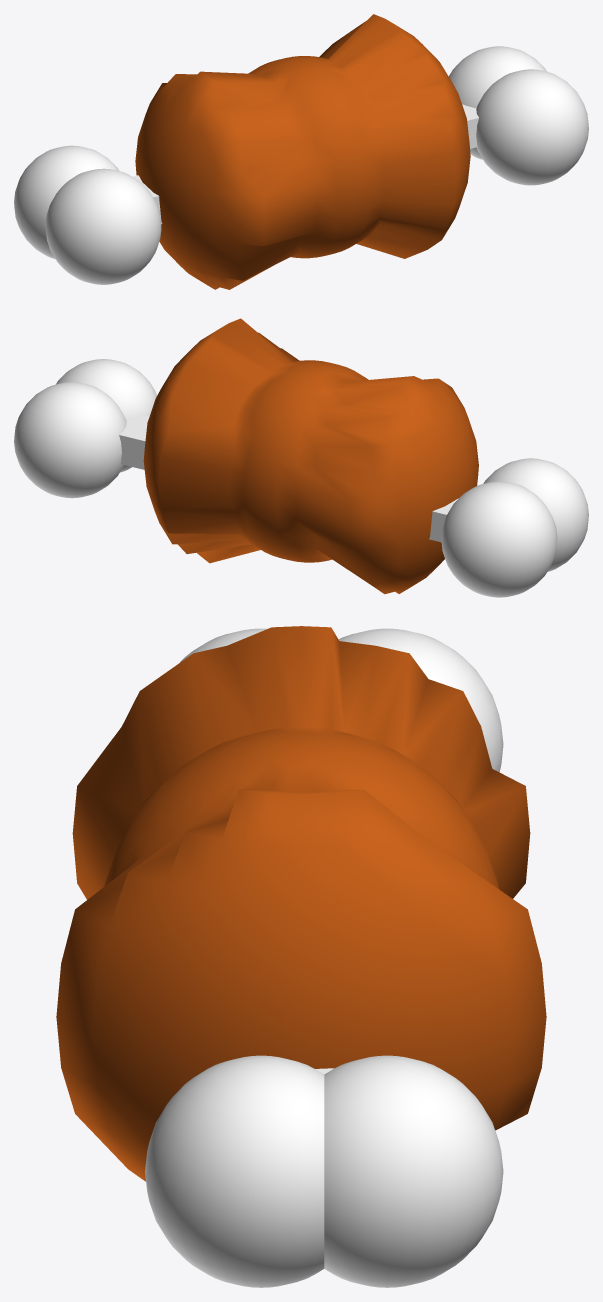
File: esaC.FBX
3 renders of one model, top to bottom at view 1: azimuth 30°, elevation 25°; view 2: azimuth 150°, elevation 25°; view 3: azimuth 270°, elevation 25°, orthographic. The views are drawn at different scales.
Parts seen in each view (by area): view 1: Sphere001, Sphere006, Sphere003, Sphere007, Sphere002, Box001; view 2: Sphere001, Sphere007, Sphere002, Sphere006, Sphere003, Box001; view 3: Sphere001, Sphere003, Sphere002, Sphere007.
Part boxes in pixels (x1,y1,x2,y2): Sphere001: (135,14,470,289); Sphere006: (45,168,161,284); Sphere003: (476,69,588,185); Sphere007: (14,145,119,259); Sphere002: (449,46,546,159); Box001: (132,104,478,224); Sphere001: (143,318,478,594); Sphere007: (441,481,557,597); Sphere002: (14,382,126,498); Sphere006: (483,458,588,571); Sphere003: (56,359,156,472); Box001: (119,415,458,542); Sphere001: (56,626,546,1181); Sphere003: (145,1055,324,1287); Sphere002: (324,1055,503,1287); Sphere007: (338,628,503,772).
Size of the model in its own units: 3.73 by 1.5 by 1.5.
Materials: 2 (2 with a texture image).
